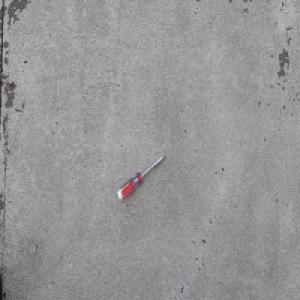Screwdriver: (117, 154, 166, 201)
